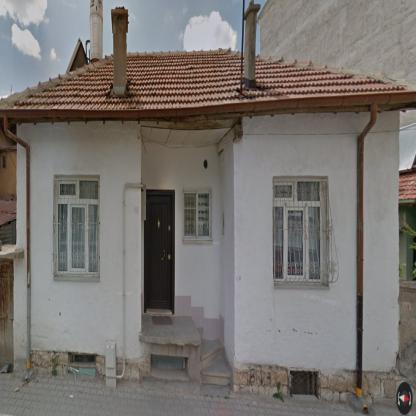door: (144, 190, 174, 310)
window: (274, 179, 327, 285), (56, 179, 98, 275), (184, 192, 211, 240)
